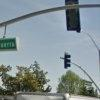Traffic light: (55, 47, 80, 68)
